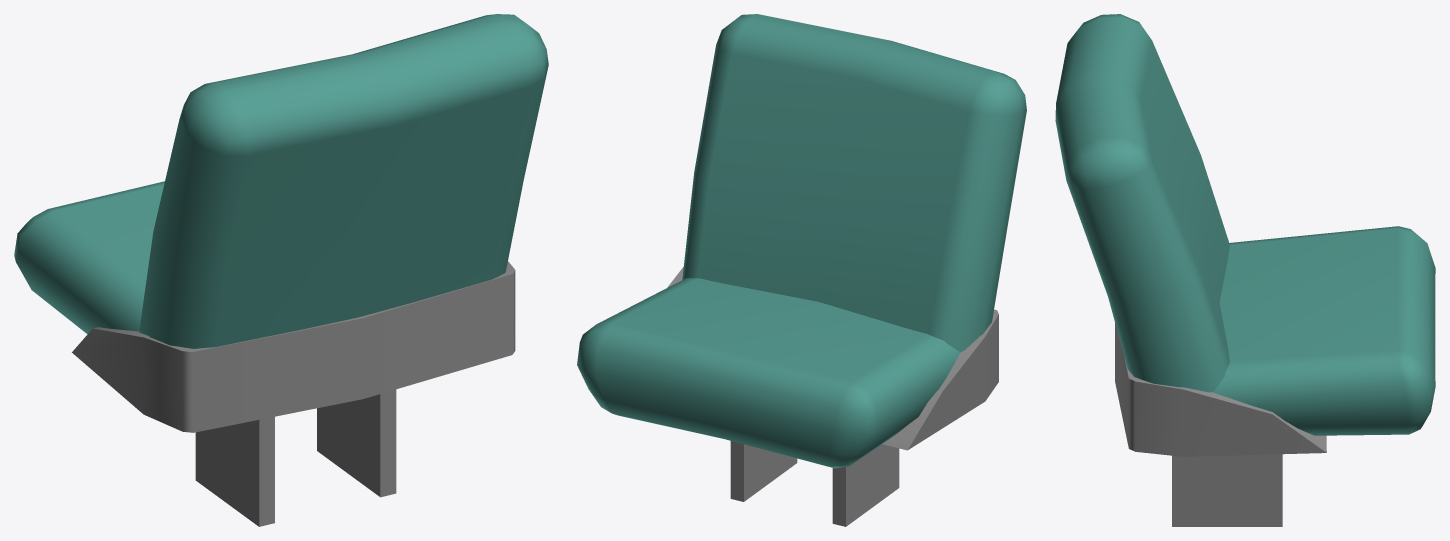
File: seat.fbx
3 renders of one model, left to right at view 1: azimuth 30°, elevation 25°; view 2: azimuth 150°, elevation 25°; view 3: azimuth 270°, elevation 25°, orthographic. The views are drawn at different scales.
Parts seen in each view (by area): view 1: seat_cushion2, seat_metal1, seat_cushion1, seat_metal4; view 2: seat_cushion2, seat_cushion1, seat_metal4, seat_metal1; view 3: seat_cushion2, seat_cushion1, seat_metal1, seat_metal4.
Boxes of the visible parts, left/top/right/bottom form: seat_cushion2: left=139, top=14, right=548, bottom=348; seat_metal1: left=72, top=261, right=515, bottom=432; seat_cushion1: left=14, top=181, right=164, bottom=334; seat_metal4: left=195, top=389, right=396, bottom=526; seat_cushion2: left=682, top=14, right=1026, bottom=352; seat_cushion1: left=577, top=278, right=960, bottom=468; seat_metal4: left=730, top=441, right=899, bottom=526; seat_metal1: left=667, top=267, right=998, bottom=450; seat_cushion2: left=1055, top=14, right=1229, bottom=392; seat_cushion1: left=1213, top=226, right=1435, bottom=435; seat_metal1: left=1115, top=323, right=1326, bottom=456; seat_metal4: left=1172, top=454, right=1282, bottom=526.
Bounding box in the file's own units: 0.0484 × 0.0628 × 0.0514.
